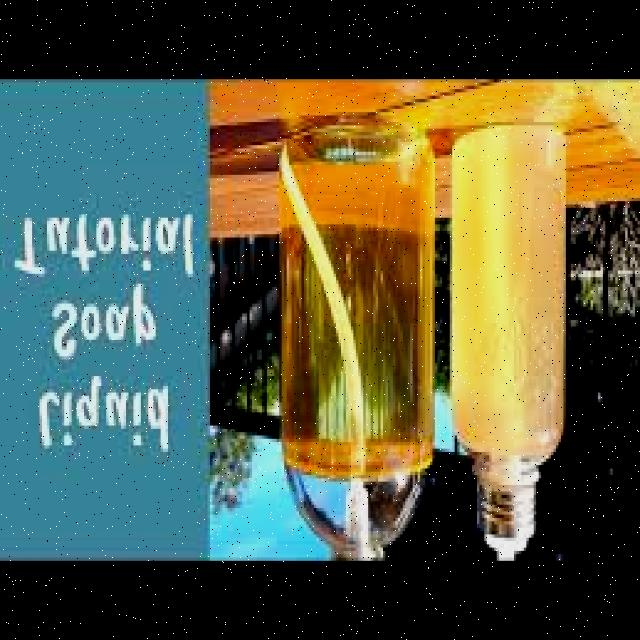liquid soap: (270, 114, 445, 576), (445, 117, 579, 567)
